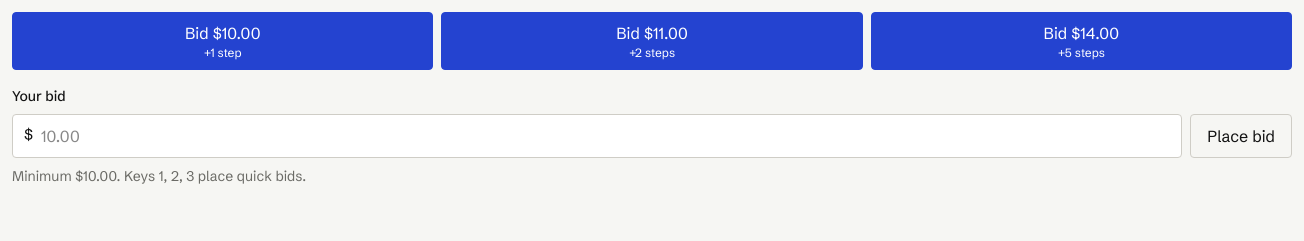
Test case: TC-190: BID_TOO_LOW renders its exact PRD copy
Click the button "Bid $10.00 +1 step". click: (223, 41)
box: [12,12,433,70]
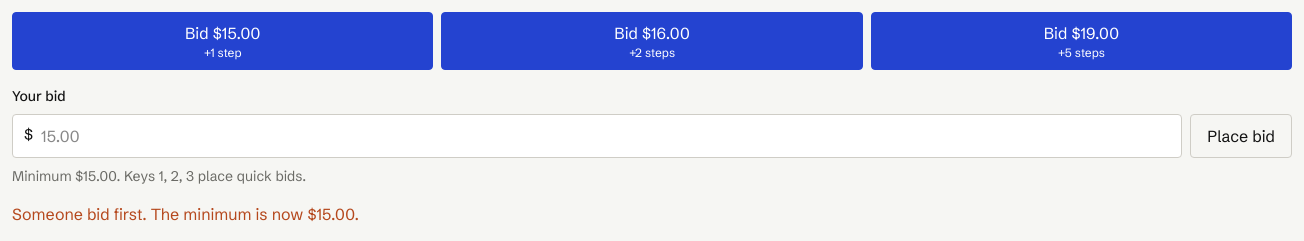
Result: the message reads "Someone bid first. The minimum is now $15.00." at [12,204,359,224]
